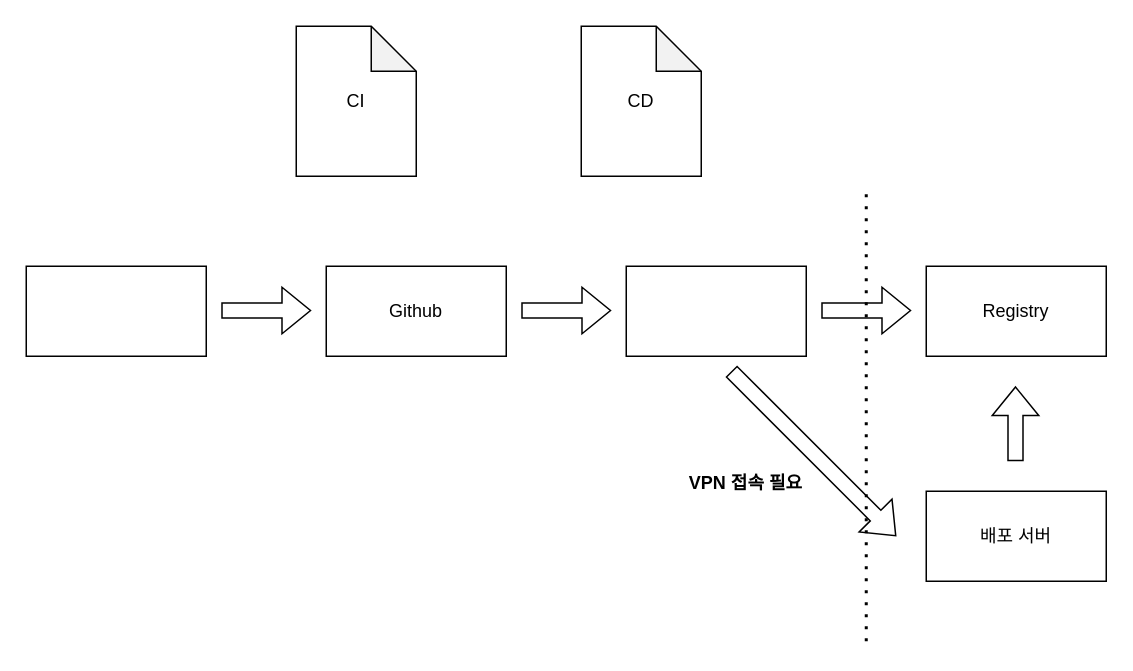
Some shapes in this 1133 by 671 pixel diagram are drawn without their labels. The shapes that lost their labels are listed below. From the top down, each one's centre as x and y in pixels, then its label:
At point (115, 310): "Code".
At point (715, 310): "Github Action".
